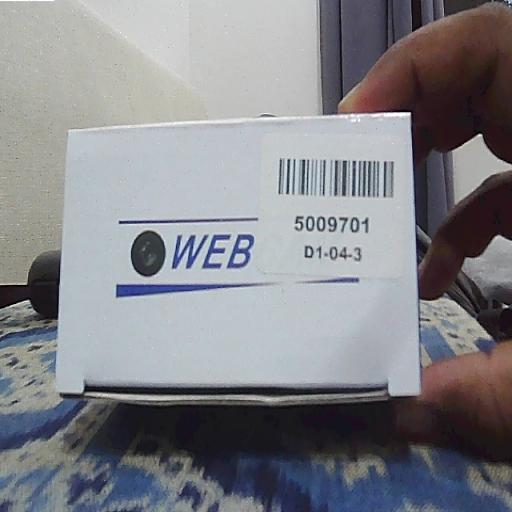webcam_box: (54, 111, 422, 410)
